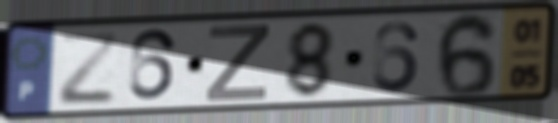6: (434, 9, 501, 100), (128, 26, 178, 106), (371, 19, 422, 95)
8: (284, 19, 338, 102)
Z: (202, 23, 272, 104), (55, 31, 122, 109)
